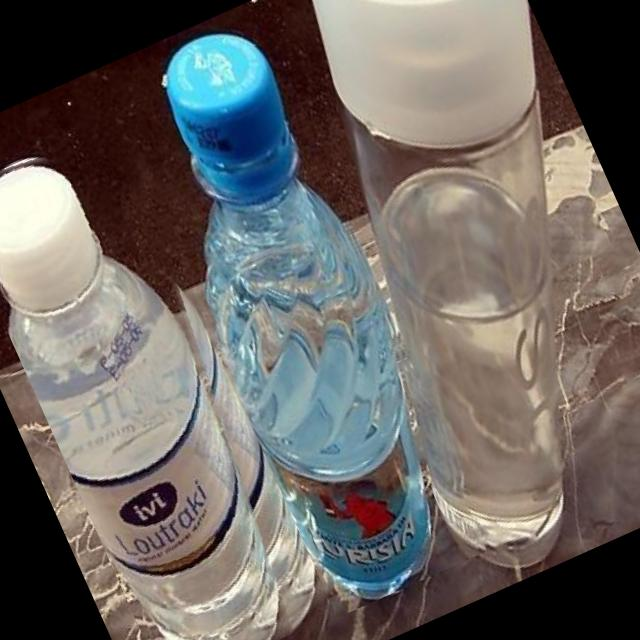plastic bottle: (98, 9, 496, 618), (0, 111, 340, 640)
